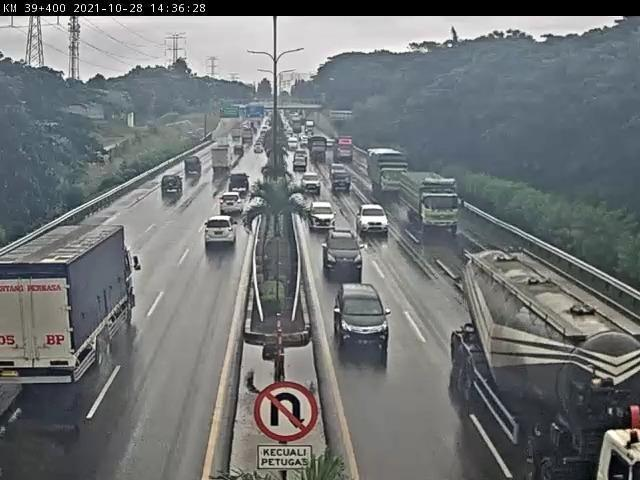car: (338, 287, 393, 352), (321, 229, 363, 274), (202, 214, 238, 249), (357, 200, 389, 234), (309, 202, 337, 230), (157, 176, 182, 199), (218, 196, 242, 219), (228, 173, 252, 194), (301, 171, 322, 192), (332, 173, 352, 194), (184, 154, 203, 176), (292, 156, 310, 172), (331, 162, 347, 176)
truck: (454, 249, 640, 480), (1, 221, 137, 387), (400, 171, 458, 232), (369, 148, 409, 196), (210, 147, 234, 176)
